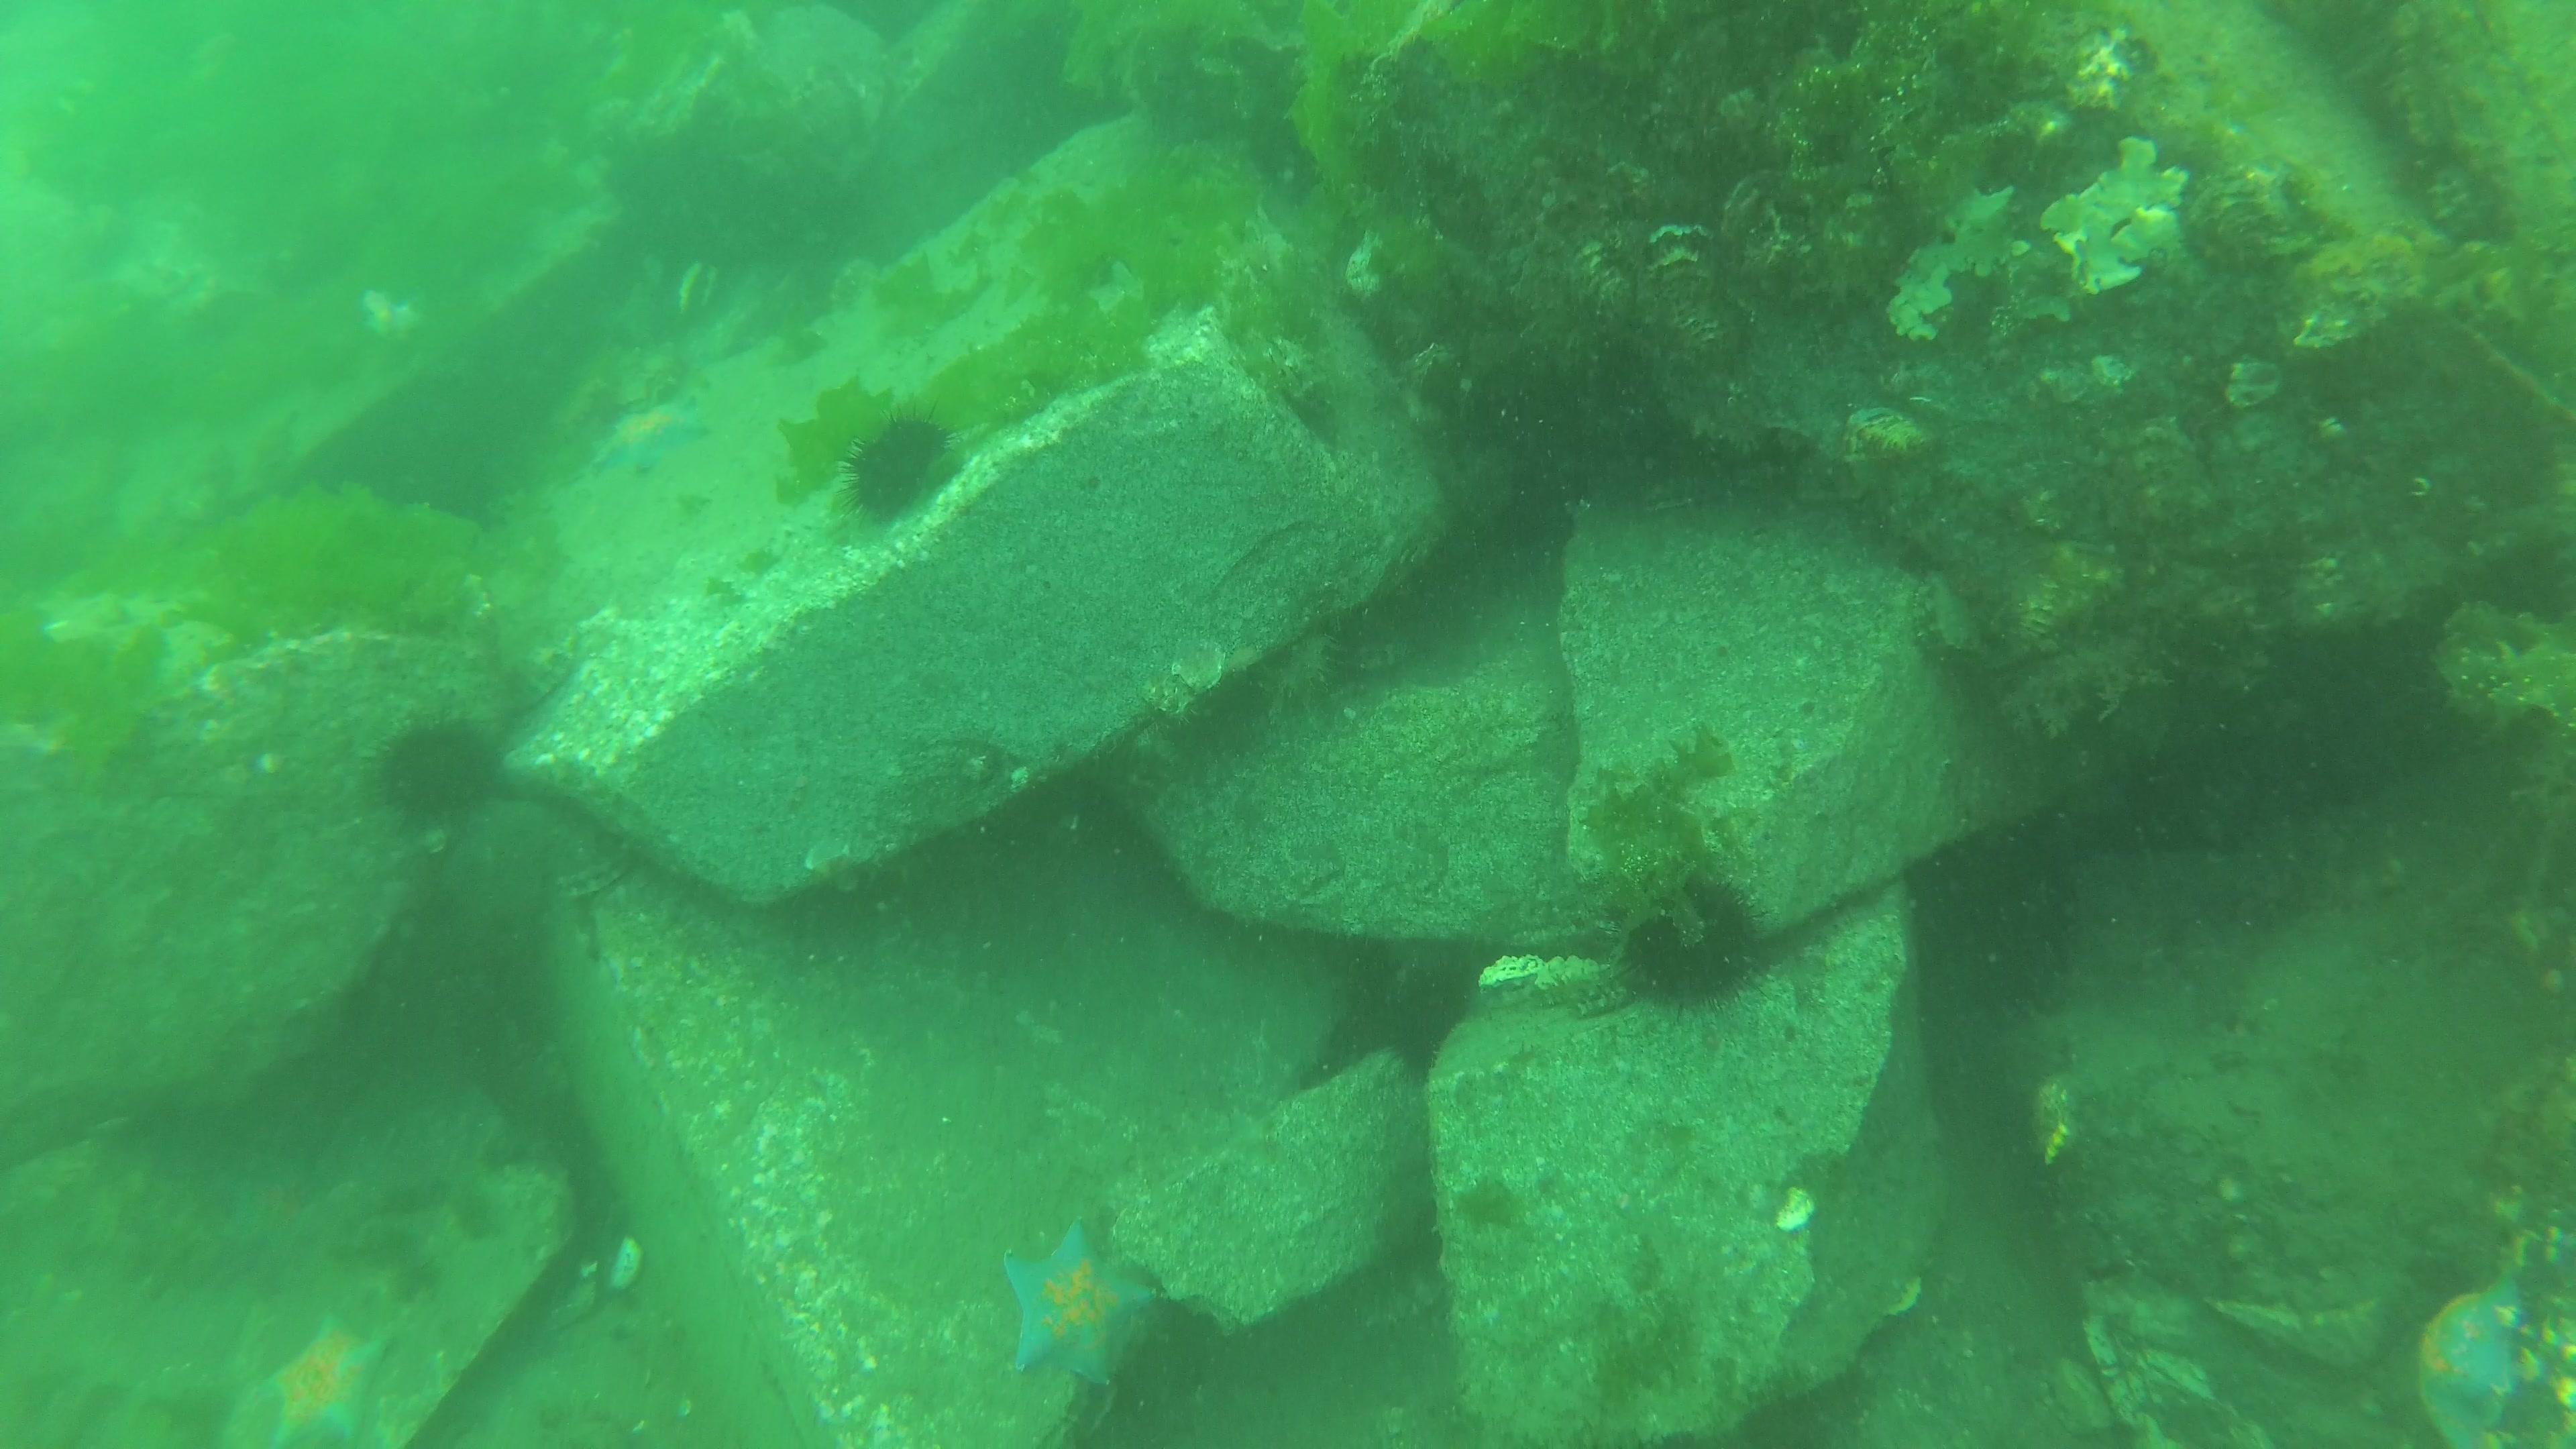echinus: (1619, 881, 1769, 1014), (379, 709, 506, 844), (1353, 948, 1479, 1079), (840, 418, 957, 525)
starfish: (998, 1215, 1161, 1387), (257, 1311, 400, 1449), (2413, 1274, 2525, 1449), (584, 393, 715, 481)
